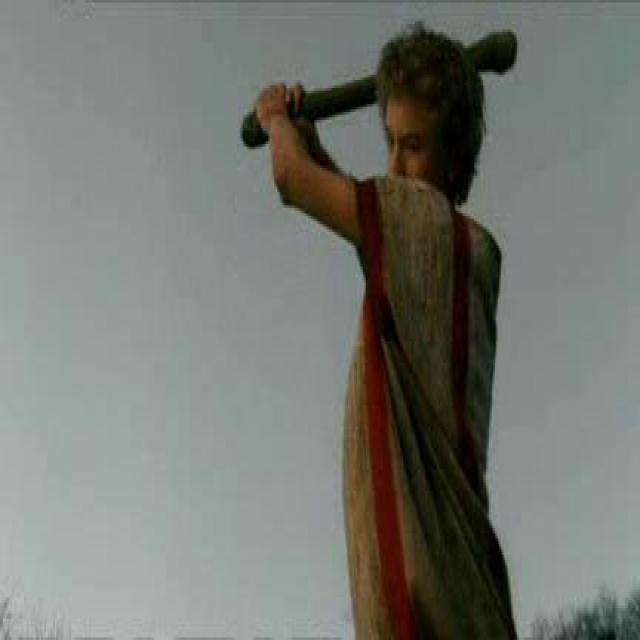fight: (207, 16, 590, 571)
